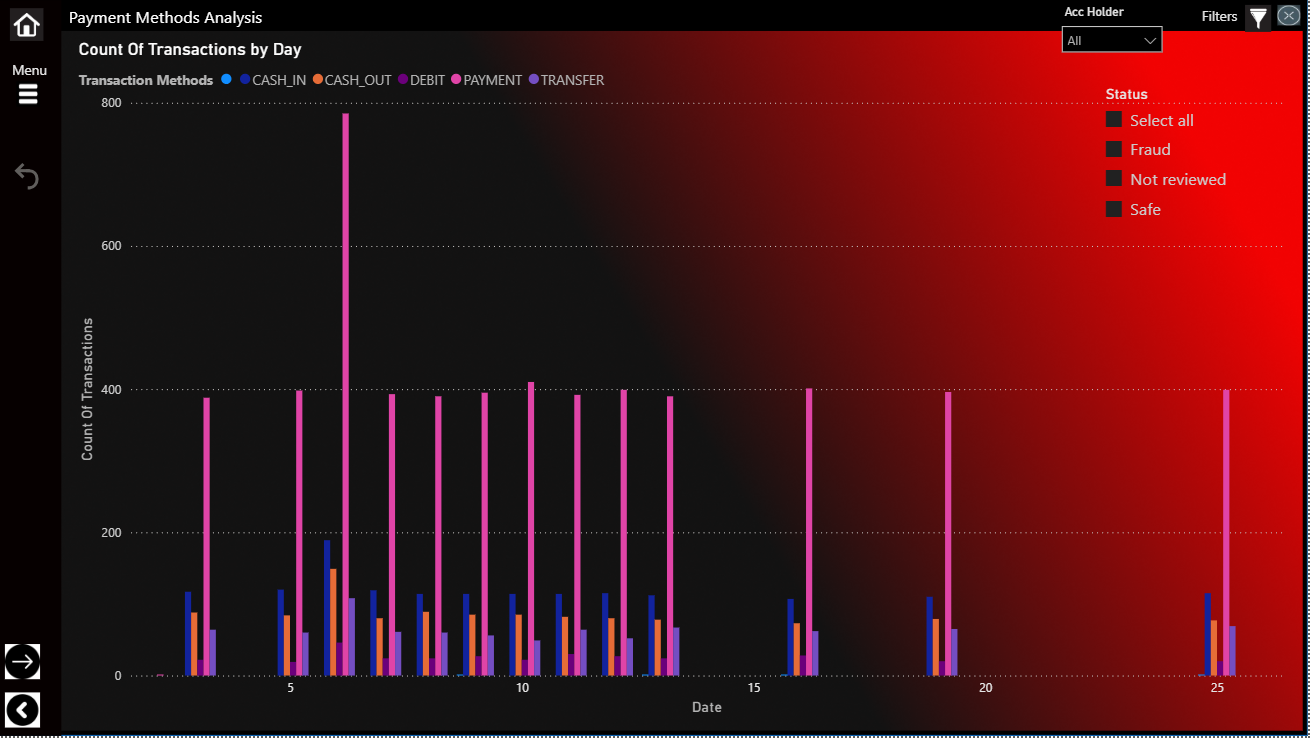

This screenshot's page, from the dashboard's own definition file:
{"tool":"powerbi","page":{"name":"Methods","canvas":[1280,720],"ordinal":4},"visuals":[{"type":"shape","box":[0,0,1279.5,719.9],"z":0},{"type":"image","box":[0,1.1,1279.2,718.9],"z":1000},{"type":"shape","box":[73.1,93,1190.6,611.1],"z":3000},{"type":"shape","box":[43.1,0,1235.9,30.1],"z":4000},{"type":"shape","box":[0,0,60.3,719.9],"z":9000},{"type":"actionButton","box":[16,79.8,23.1,24.8],"z":10000},{"type":"actionButton","box":[8.9,152.5,35.5,39],"z":11000},{"type":"image","box":[1245.3,0,32.1,30.2],"z":19000},{"type":"slicer","fields":{"Values":["Fraud Dataset_NEW.nameOrig"]},"box":[1028.3,0,118.9,71.7],"z":21000},{"type":"image","box":[1200,0,62.3,35.8],"z":22000},{"type":"actionButton","box":[5.3,55,47.9,23.1],"z":23000},{"type":"actionButton","box":[1166,0,52.8,30.2],"z":24000},{"type":"textbox","box":[62.3,0,294.3,37.7],"z":25000},{"type":"clusteredColumnChart","title":"Count Of Transactions by Day","fields":{"Category":["Fraud Dataset_NEW.Date of transaction.Variation.Date Hierarchy.Day"],"Y":["Count(Fraud Dataset_NEW.nameDest)"],"Series":["Fraud Dataset_NEW.type"]},"box":[72.7,37.9,1187.9,666.7],"z":26000},{"type":"slicer","fields":{"Values":["Fraud Dataset_NEW.isFraud"]},"box":[1068.2,78.8,197,148.5],"z":27000},{"type":"image","box":[5.3,0,42.6,47.9],"z":30000},{"type":"image","box":[0,672,44.3,44.3],"z":31000},{"type":"image","box":[0,624.2,44.3,47.9],"z":32000}]}

Visuals, with their boxes on the page's 1280x720 design canvas (x1, y1, x2, y2). These are canvas units, not pixel positions in the 1310x739 screenshot, which may show the page scaled, cropped or inside an application window:
shape: rect(0, 0, 1280, 720)
image: rect(0, 1, 1279, 720)
shape: rect(73, 93, 1264, 704)
shape: rect(43, 0, 1279, 30)
shape: rect(0, 0, 60, 720)
actionButton: rect(16, 80, 39, 105)
actionButton: rect(9, 152, 44, 192)
image: rect(1245, 0, 1277, 30)
slicer - Fraud Dataset_NEW.nameOrig: rect(1028, 0, 1147, 72)
image: rect(1200, 0, 1262, 36)
actionButton: rect(5, 55, 53, 78)
actionButton: rect(1166, 0, 1219, 30)
textbox: rect(62, 0, 357, 38)
"Count Of Transactions by Day" clusteredColumnChart: rect(73, 38, 1261, 705)
slicer - Fraud Dataset_NEW.isFraud: rect(1068, 79, 1265, 227)
image: rect(5, 0, 48, 48)
image: rect(0, 672, 44, 716)
image: rect(0, 624, 44, 672)
